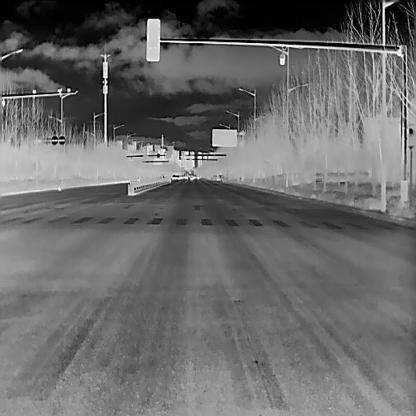car: (171, 173, 176, 180), (195, 174, 200, 179), (175, 174, 179, 179)
